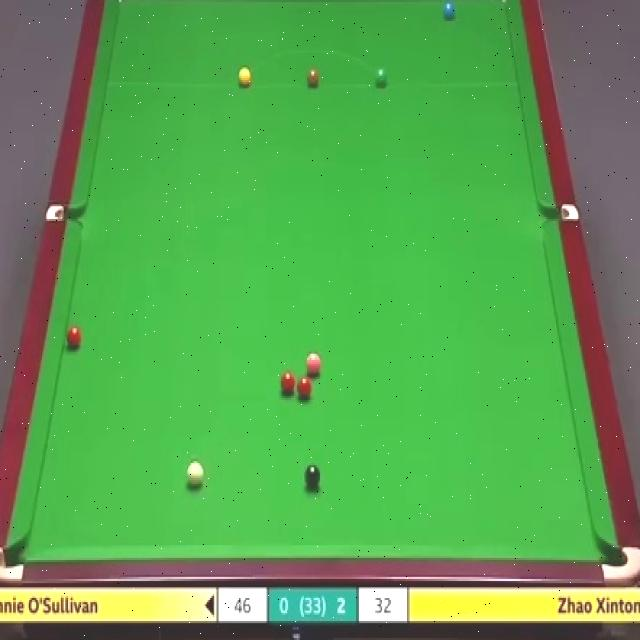black-ball: (304, 464, 320, 486)
blue-ball: (441, 1, 457, 21)
brown-ball: (306, 70, 320, 86)
green-ball: (374, 65, 389, 90)
pink-ball: (304, 352, 322, 377)
red-ball: (298, 376, 312, 404), (65, 326, 83, 347), (280, 371, 295, 394)
white-ball: (186, 460, 206, 489)
yellow-ball: (237, 66, 252, 88)
